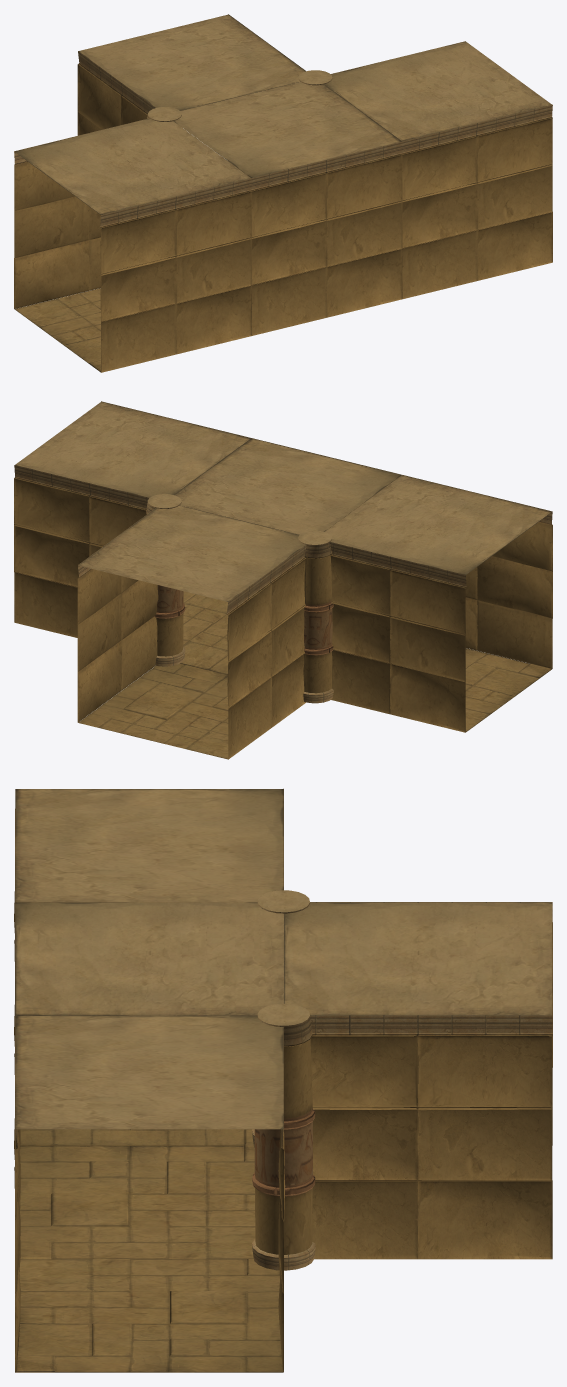
The model's file is m_Junction01.FBX.
3 renders of one model, top to bottom at view 1: azimuth 30°, elevation 25°; view 2: azimuth 150°, elevation 25°; view 3: azimuth 270°, elevation 25°, orthographic. The views are drawn at different scales.
Visible parts, largest first — view 1: m_Junction01; view 2: m_Junction01; view 3: m_Junction01.
Part boxes in pixels (x1,y1,x2,y2): m_Junction01: (14,14,552,372); m_Junction01: (14,401,552,759); m_Junction01: (14,788,552,1372).
Size of the model in its own units: 301 by 201 by 100.
Materials: 1 (1 with a texture image).
